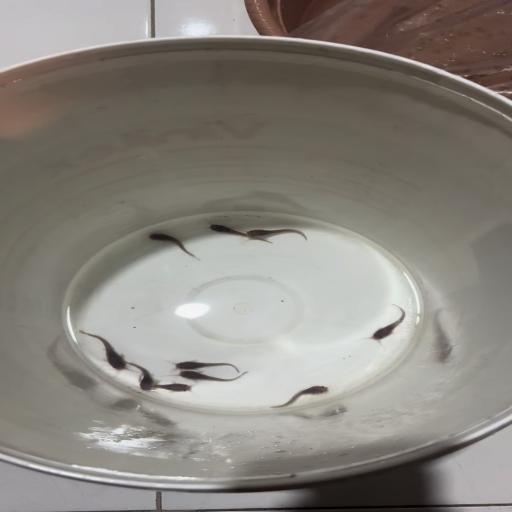lele: (74, 329, 133, 369), (361, 302, 411, 342), (267, 383, 331, 412), (205, 222, 275, 244), (148, 231, 197, 261), (171, 357, 244, 372), (124, 360, 156, 393), (173, 370, 252, 383), (245, 227, 308, 240), (152, 384, 195, 394)
